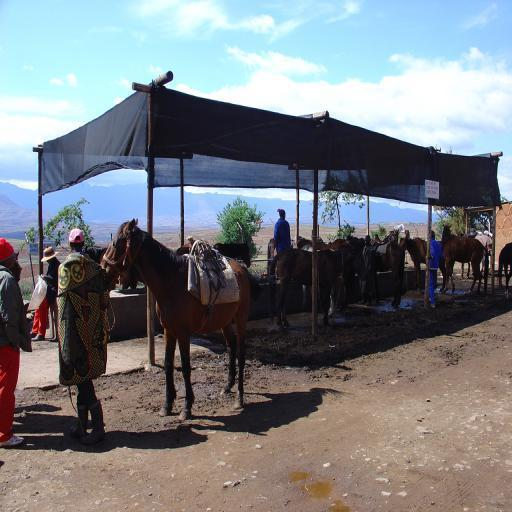horse: (96, 214, 256, 422), (266, 219, 490, 330), (81, 246, 137, 290), (213, 242, 251, 268), (497, 240, 512, 301)
